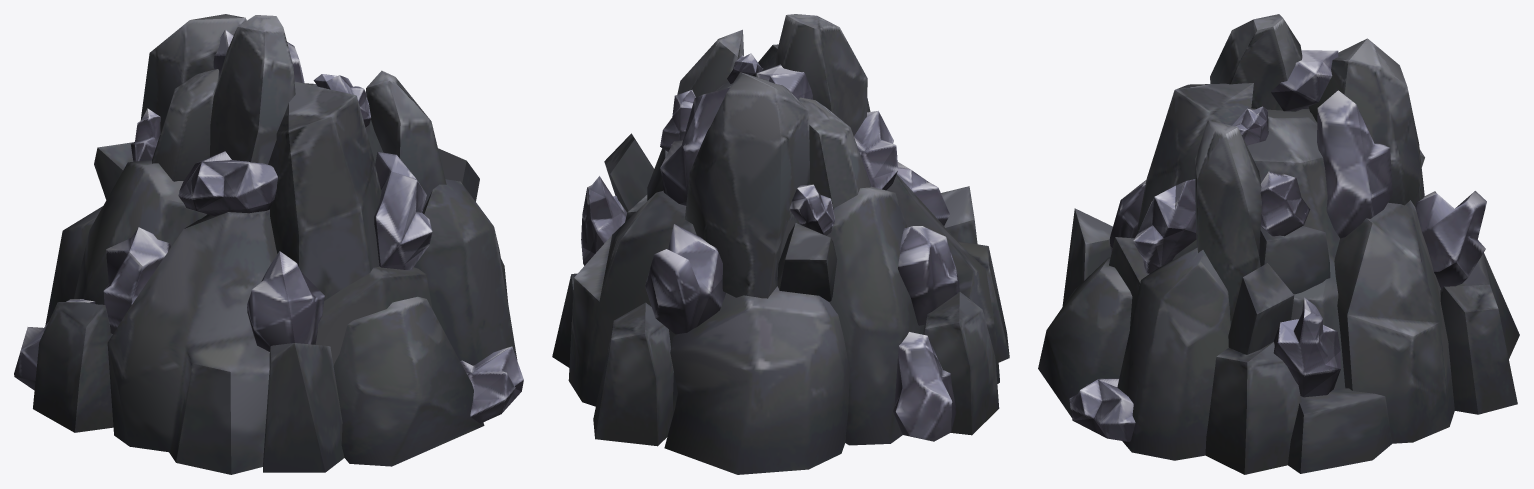
Rendered from CobaltMine.FBX.
3 views of the same model, side by side, from view 1: azimuth 30°, elevation 25°; view 2: azimuth 150°, elevation 25°; view 3: azimuth 270°, elevation 25° (orthographic). The views are drawn at different scales.
Visible parts, largest first — view 1: Object040; view 2: Object040; view 3: Object040.
Part boxes in pixels (x1,y1,x2,y2): Object040: [14, 14, 523, 474]; Object040: [552, 14, 1009, 474]; Object040: [1038, 14, 1519, 474].
Size of the model in its own units: 1.71 by 1.35 by 1.7.
1 material, 1 textured.
